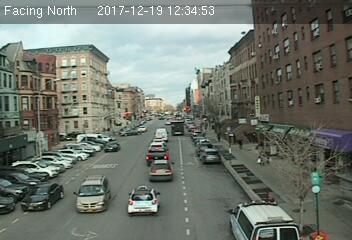car: (74, 175, 110, 213), (19, 181, 63, 211), (126, 186, 159, 214), (148, 160, 175, 182), (145, 149, 168, 165), (201, 149, 220, 164), (102, 142, 121, 152), (150, 139, 167, 150)
police: (227, 194, 304, 240)
ups: (170, 120, 186, 136)
